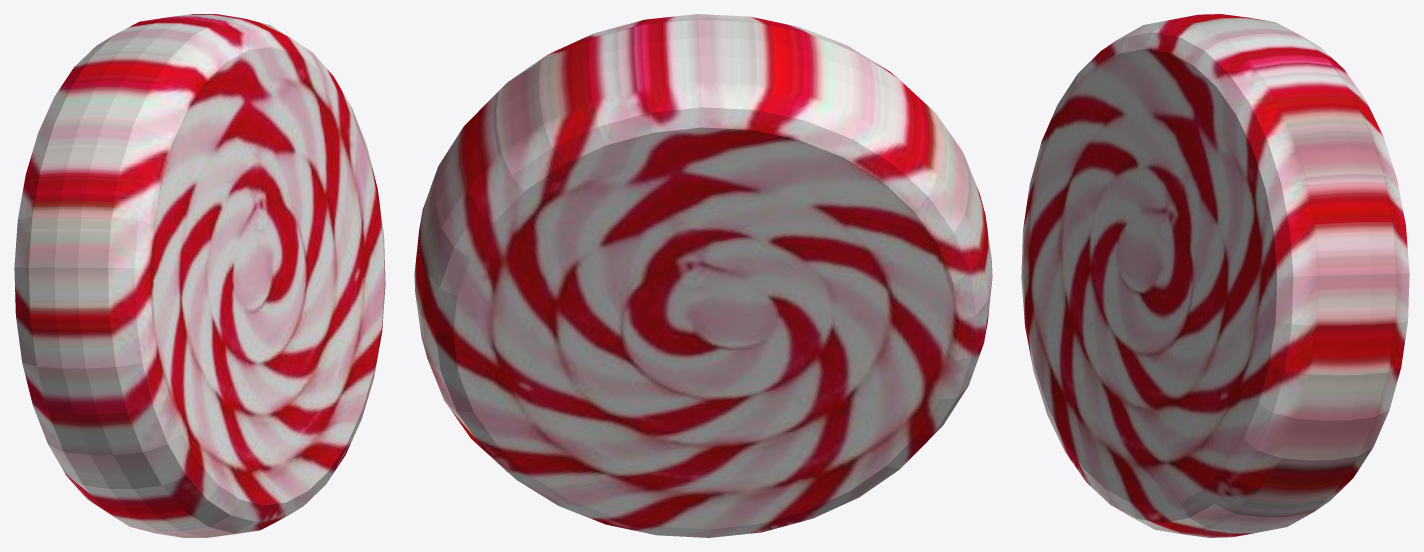
Rendered from Zaeltli-Spirale-unten-04.gltf.
3 views of the same model, side by side, from view 1: azimuth 30°, elevation 25°; view 2: azimuth 150°, elevation 25°; view 3: azimuth 270°, elevation 25° (orthographic). The views are drawn at different scales.
Visible parts, largest first — view 1: Zaeltli-Spirale-unten-04; view 2: Zaeltli-Spirale-unten-04; view 3: Zaeltli-Spirale-unten-04.
Boxes of the visible parts, box(x1,y1,x2,y2) form: Zaeltli-Spirale-unten-04: box(14, 14, 385, 537); Zaeltli-Spirale-unten-04: box(414, 14, 992, 537); Zaeltli-Spirale-unten-04: box(1021, 14, 1409, 537).
Bounding box in the file's own units: 0.9389 × 0.998 × 0.7416.
1 material, 1 textured.
